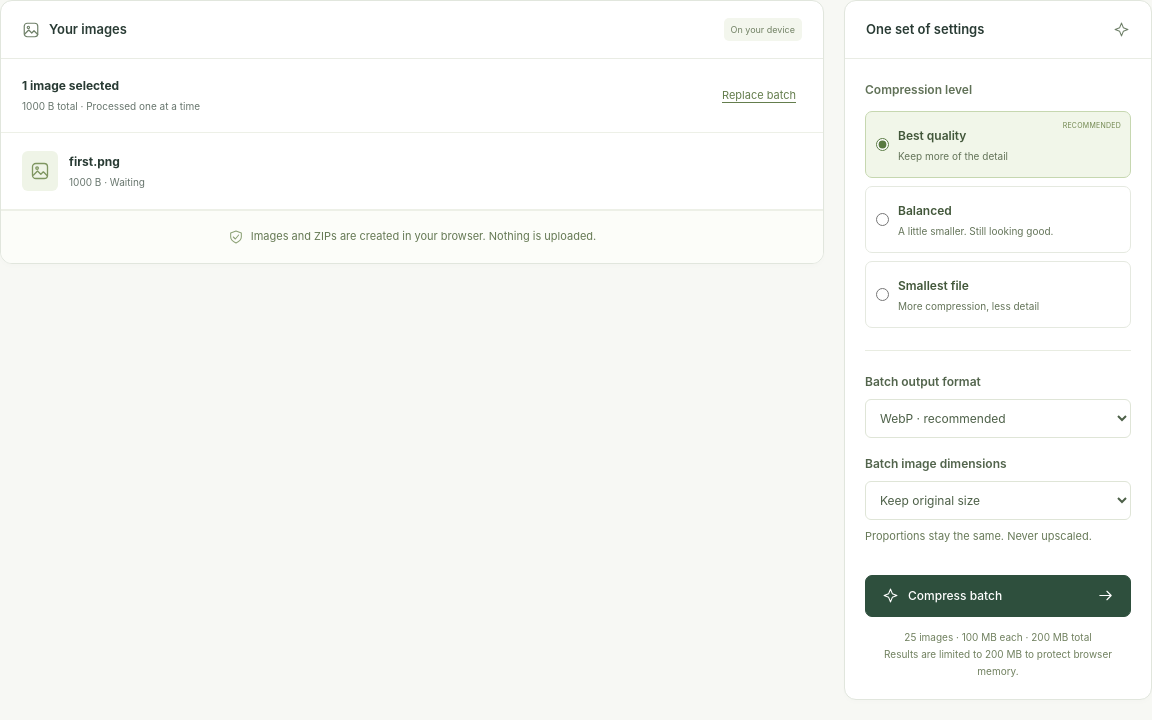
Test: invalidates both image and ZIP downloads when output settings change
The width and height of the screenshot is (1152, 720).
Earlier steps of the test are not shown.
Click the button "Compress batch" at {"x": 998, "y": 596}, box [865,575,1131,617]
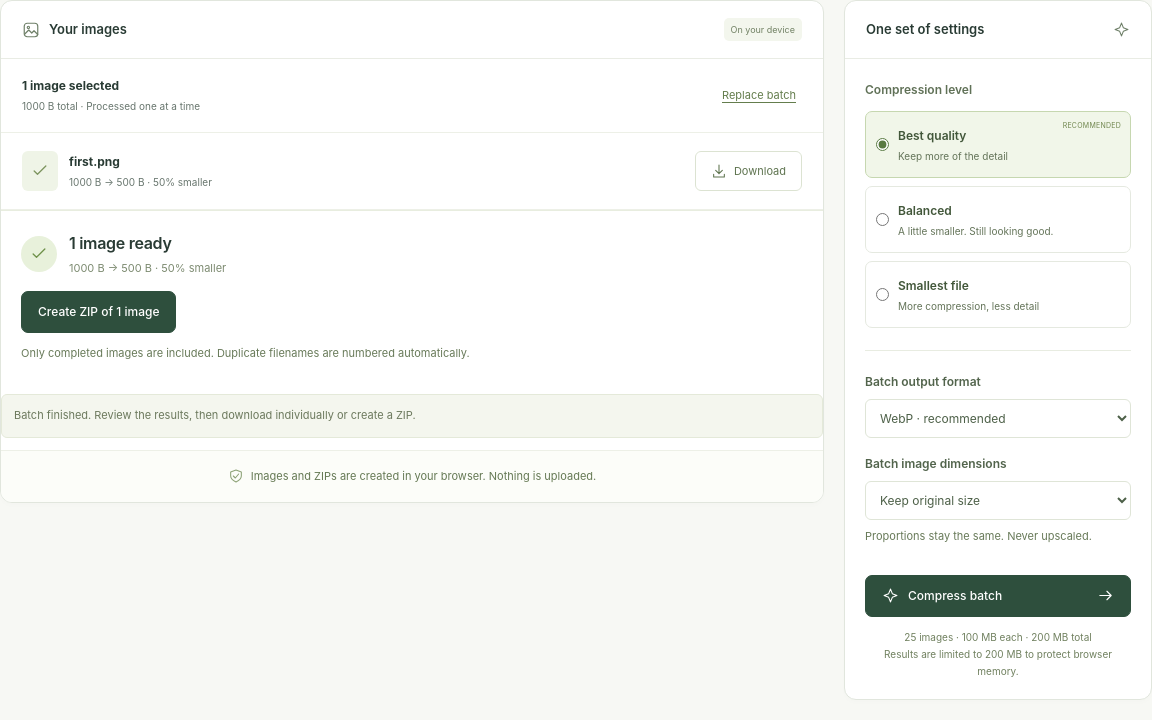
Expected: the link with aria-label "Download first-optimized.webp" is shown, [695,151,802,191]
Click the button "Create ZIP of 1 image" at {"x": 99, "y": 312}, box [21,290,176,332]
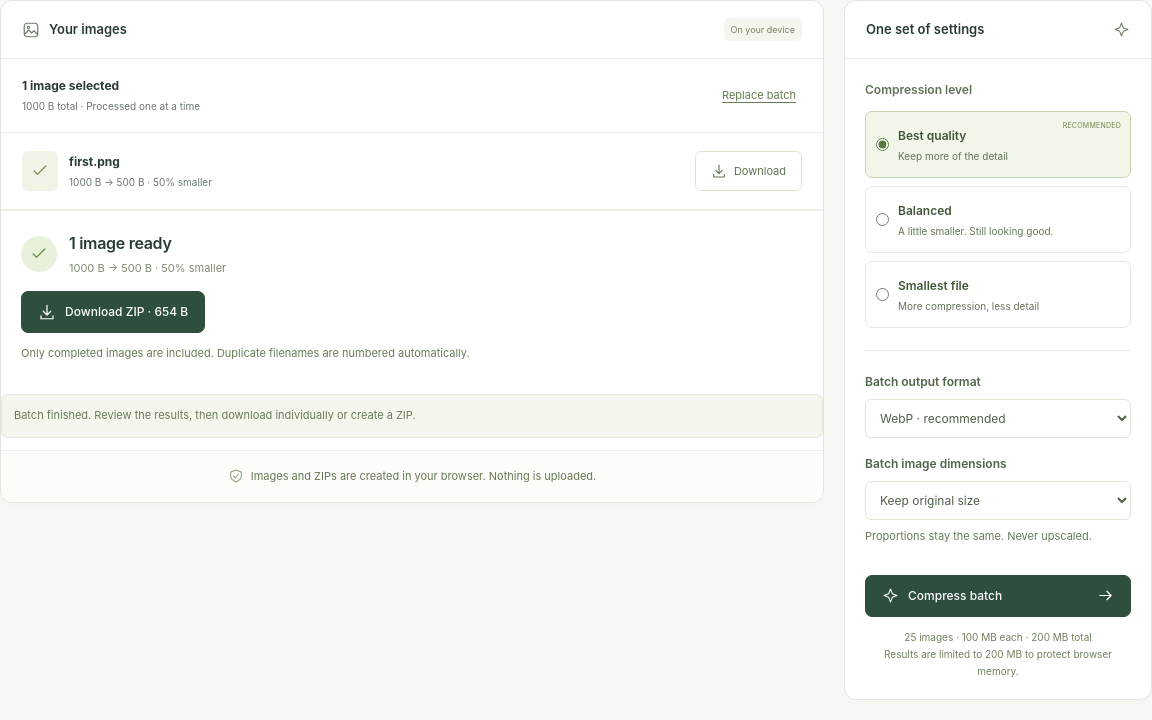
Expected: the link "Download ZIP · 654 B" is shown, [21,290,205,332]
Select "JPG · widely compatible" in the dropdown labelled "Batch output format" at {"x": 998, "y": 418}, box [865,399,1131,438]
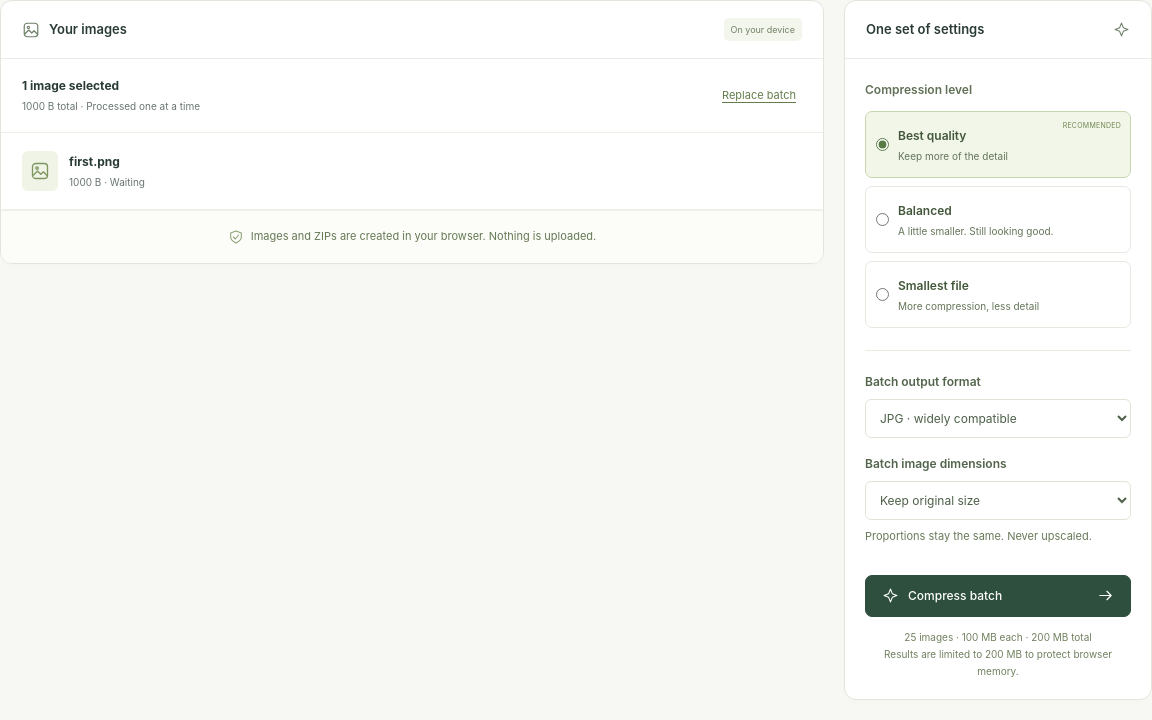
Expected: the button "Compress batch" is enabled, [865,575,1131,617]
Expected: the link "Download" is gone
